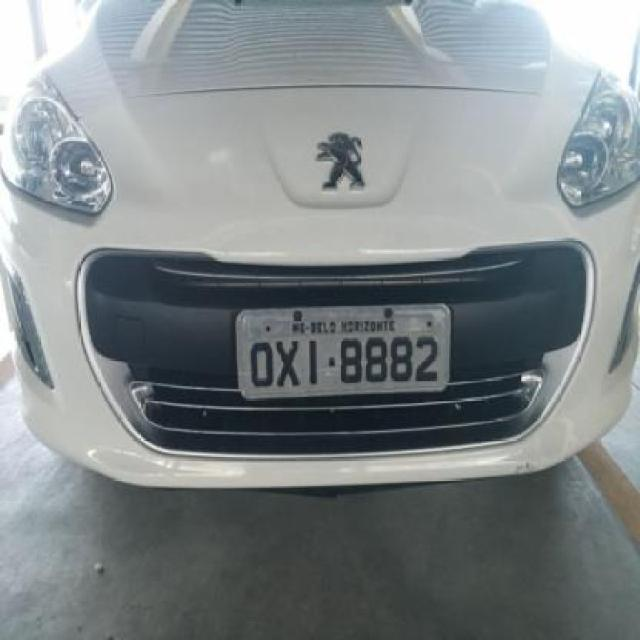old_plate: (228, 298, 458, 404)
